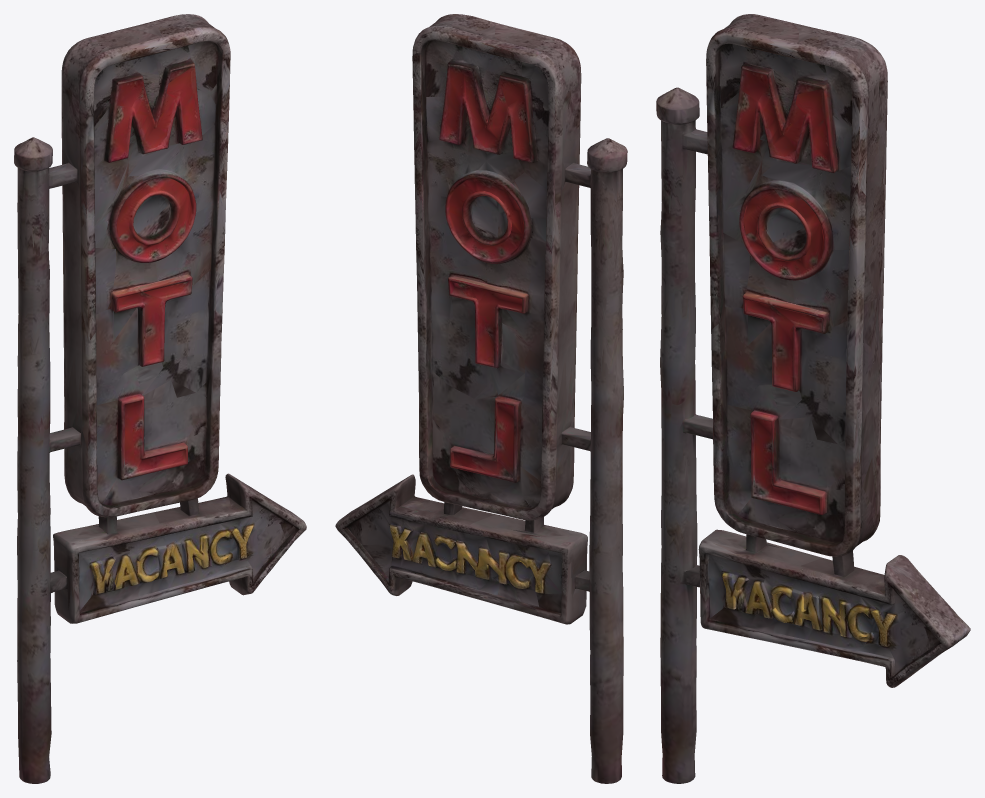
The model's file is sign_motel_b_idle.glb.
The picture shows the model from 3 angles, left to right: view 1: azimuth 30°, elevation 25°; view 2: azimuth 150°, elevation 25°; view 3: azimuth 330°, elevation 25°; orthographic projection. The views are drawn at different scales.
Visible parts, largest first — view 1: tripo_node_56bda04d-1c61-466a-ad3c-55bda9f8f18f; view 2: tripo_node_56bda04d-1c61-466a-ad3c-55bda9f8f18f; view 3: tripo_node_56bda04d-1c61-466a-ad3c-55bda9f8f18f.
Boxes of the visible parts, <box> form: tripo_node_56bda04d-1c61-466a-ad3c-55bda9f8f18f: <box>14,14,306,783</box>; tripo_node_56bda04d-1c61-466a-ad3c-55bda9f8f18f: <box>335,14,627,783</box>; tripo_node_56bda04d-1c61-466a-ad3c-55bda9f8f18f: <box>656,14,970,783</box>.
Size of the model in its own units: 2.45 by 6 by 0.4317.
Materials: 1 (1 with a texture image).
